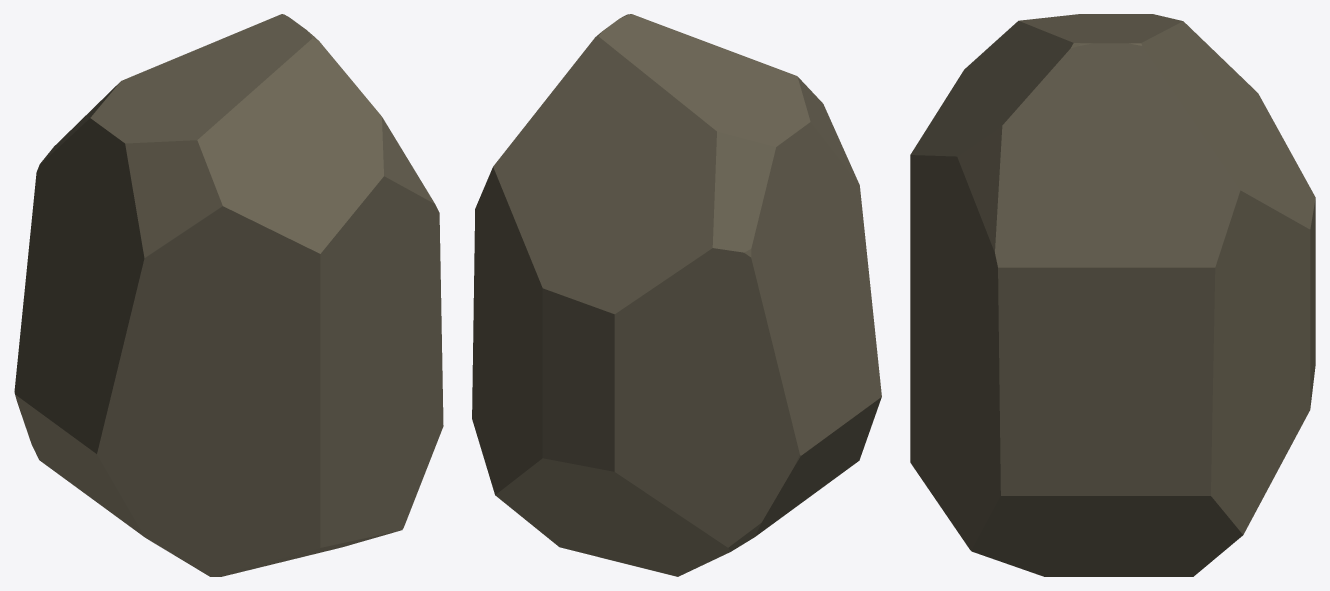
File: Rock_13.fbx
3 views of the same model, side by side, from view 1: azimuth 30°, elevation 25°; view 2: azimuth 150°, elevation 25°; view 3: azimuth 270°, elevation 25° (orthographic). The views are drawn at different scales.
Parts seen in each view (by area): view 1: Rock_13_LOD0; view 2: Rock_13_LOD0; view 3: Rock_13_LOD0.
Boxes of the visible parts, x1,y1,x2,y2 form: Rock_13_LOD0: (14,14,443,576); Rock_13_LOD0: (472,14,881,576); Rock_13_LOD0: (910,14,1315,576).
Size of what is drawn, in the model's own units: 0.8155 by 1.19 by 0.8272.
